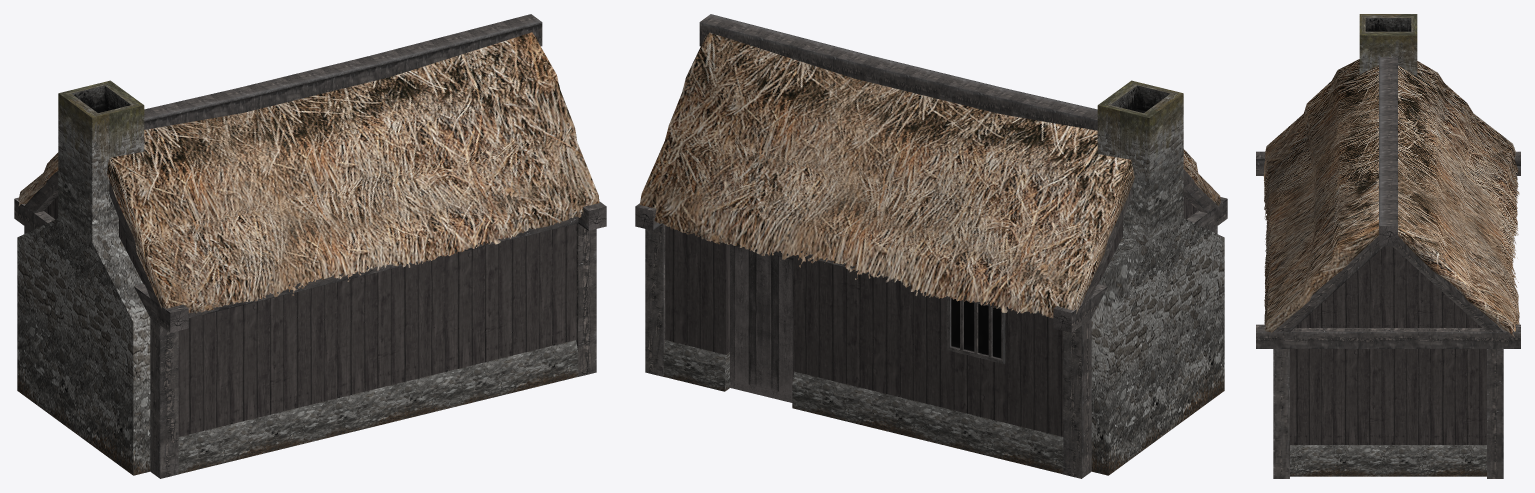
File: poorfolks_cottage.FBX
3 views of the same model, side by side, from view 1: azimuth 30°, elevation 25°; view 2: azimuth 150°, elevation 25°; view 3: azimuth 270°, elevation 25° (orthographic). The views are drawn at different scales.
Parts seen in each view (by area): view 1: poorfolks_cottage_thatched_attached; view 2: poorfolks_cottage_thatched_attached; view 3: poorfolks_cottage_thatched_attached.
Part boxes in pixels (x1,y1,x2,y2): poorfolks_cottage_thatched_attached: [14, 14, 606, 478]; poorfolks_cottage_thatched_attached: [635, 14, 1227, 478]; poorfolks_cottage_thatched_attached: [1256, 14, 1520, 478].
Bounding box in the file's own units: 648 × 380 × 440.
